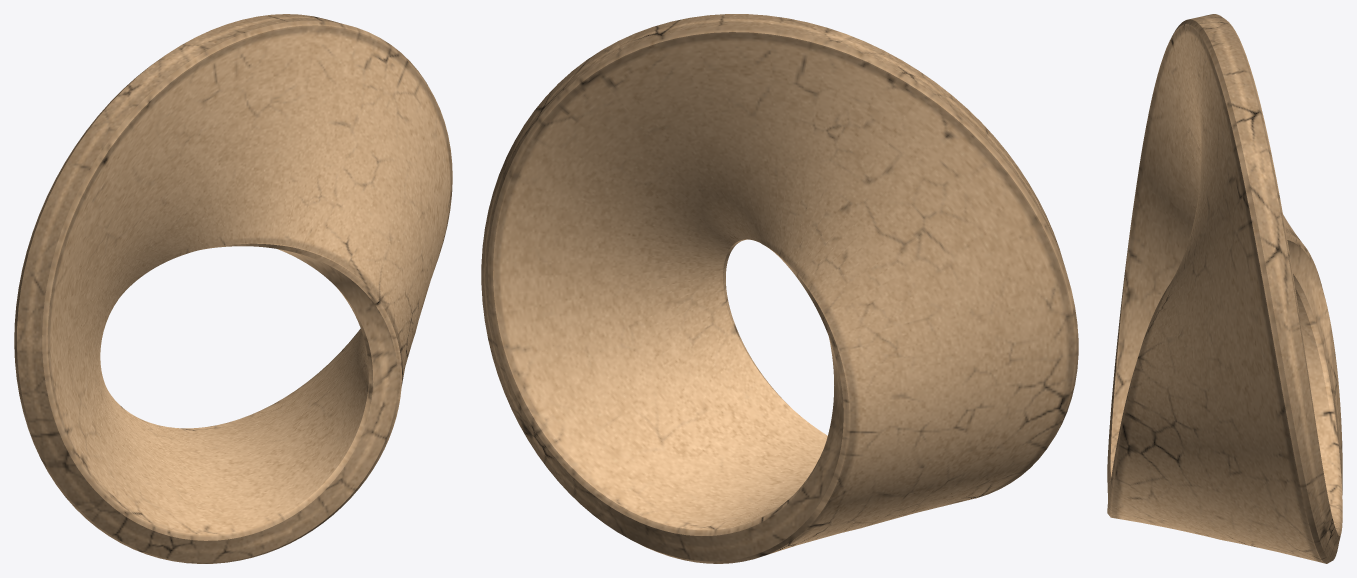
File: stage2.fbx
3 views of the same model, side by side, from view 1: azimuth 30°, elevation 25°; view 2: azimuth 150°, elevation 25°; view 3: azimuth 270°, elevation 25° (orthographic). The views are drawn at different scales.
Parts seen in each view (by area): view 1: pCube1; view 2: pCube1; view 3: pCube1.
Boxes of the visible parts, box(x1,y1,x2,y2) form: pCube1: box(14, 14, 452, 563); pCube1: box(481, 14, 1078, 563); pCube1: box(1107, 14, 1342, 563).
Size of the model in its own units: 19.07 by 17.51 by 7.82.
1 material, 1 textured.
